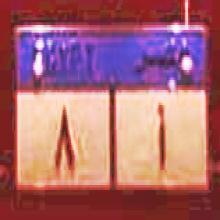8: (53, 106, 75, 171)
alif: (157, 101, 167, 170)
